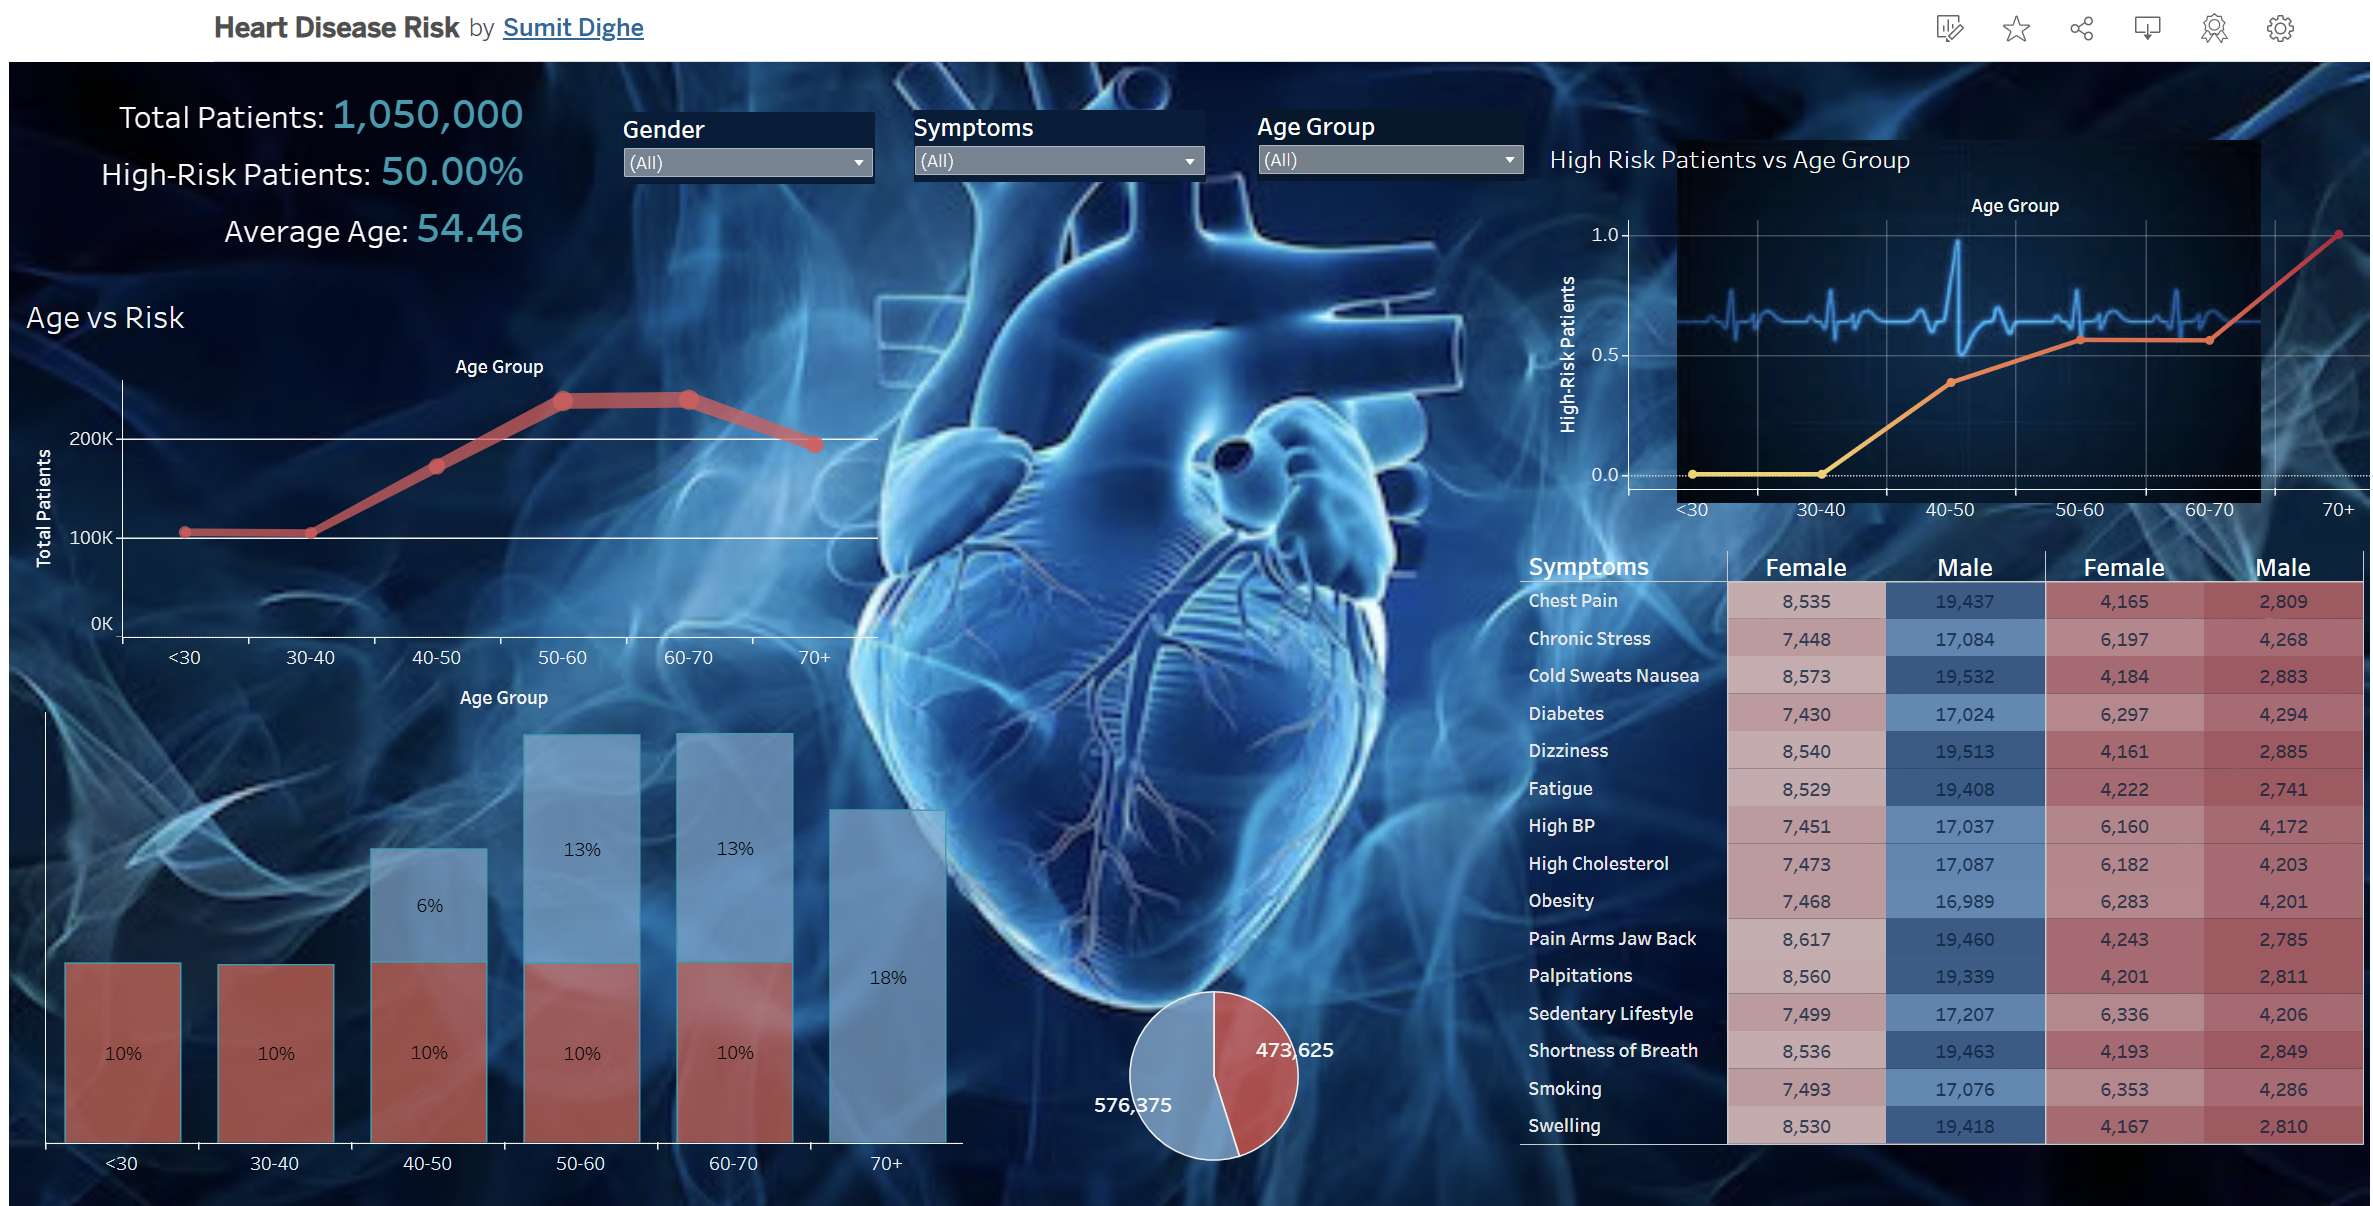

This screenshot's page, from the dashboard's own definition file:
{"tool":"tableau","page":{"name":"Heart Disease Risk","canvas":[1000,1000],"units":"permille","ordinal":0},"visuals":[{"type":"image","param":"C:/Users/sdigh/Downloads/3d-representation-blue-heart-with-visible-hole-indicati","box":[3.6,6,992.9,987.9]},{"type":"worksheet","title":"KPI Overview","mark":"Text","box":[13.5,18.9,223.1,182.5]},{"type":"image","param":"C:/Users/sdigh/Downloads/download.jpeg","box":[665.4,29.4,313.8,317.5]},{"type":"worksheet","title":"High Risk Patients vs Age Group","mark":"Line","rows":["Calculation_207165638640865281"],"cols":["Age_Group"],"box":[625.9,33.9,377.2,296.4]},{"type":"filter","title":"KPI Overview","param":"[federated.0ud04sd11vl79l1a6jkaf1fkanzm].[none:Pivot Field Names:nk]","box":[351.1,40,116.8,54.3]},{"type":"filter","title":"Risk by Age","param":"[federated.0ud04sd11vl79l1a6jkaf1fkanzm].[none:Age_Group:nk]","box":[497.4,40,107.2,55.1]},{"type":"filter","title":"KPI Overview","param":"[federated.0ud04sd11vl79l1a6jkaf1fkanzm].[none:Gender:nk]","box":[252.2,40.7,71.6,51.3]},{"type":"worksheet","title":"Age vs Risk","mark":"Line","rows":["Heart_Risk_Level"],"cols":["Age_Group"],"box":[9.8,212.7,356.9,273]},{"type":"worksheet","title":"Symtoms vs Risk","mark":"Square","rows":["Pivot Field Names","Pivot Field Names"],"cols":["Heart_Risk_Level","Gender"],"box":[591.8,381.6,400.2,460]},{"type":"worksheet","title":"Risk by Age","mark":"Bar","rows":["Heart_Risk_Level"],"cols":["Age_Group"],"box":[20.4,533.9,379.8,307.7]},{"type":"worksheet","title":"Gender Distribution in Heart Disease Risk","mark":"Pie","box":[459.6,719.5,86.8,141.8]}]}

Visuals, with their boxes on the dashboard's canvas, which has no fixed pixel size, in thousandths of its width and height (x1, y1, x2, y2). These are canvas units, not pixel positions in the 2373x1206 screenshot, which may show the page scaled, cropped or inside an application window:
image: locate(4, 6, 996, 994)
"KPI Overview" worksheet (Text marks): locate(14, 19, 237, 201)
image: locate(665, 29, 979, 347)
"High Risk Patients vs Age Group" worksheet (Line marks): locate(626, 34, 1003, 330)
"KPI Overview" filter: locate(351, 40, 468, 94)
"Risk by Age" filter: locate(497, 40, 605, 95)
"KPI Overview" filter: locate(252, 41, 324, 92)
"Age vs Risk" worksheet (Line marks): locate(10, 213, 367, 486)
"Symtoms vs Risk" worksheet (Square marks): locate(592, 382, 992, 842)
"Risk by Age" worksheet (Bar marks): locate(20, 534, 400, 842)
"Gender Distribution in Heart Disease Risk" worksheet (Pie marks): locate(460, 720, 546, 861)
